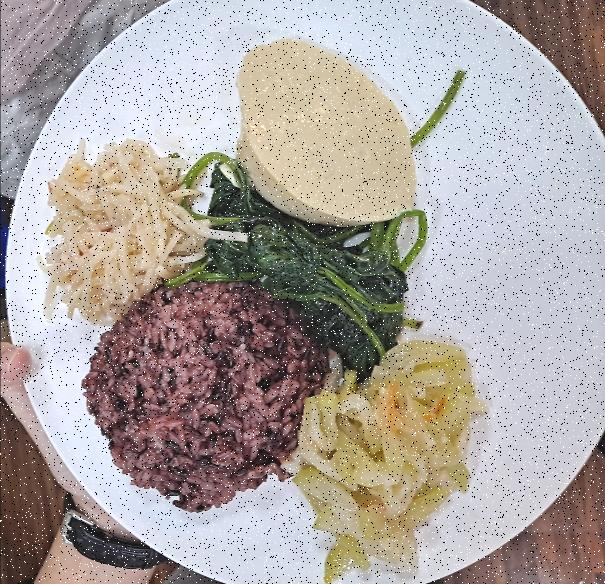plate: (0, 7, 605, 582)
purple rice: (80, 282, 323, 510)
side dish: (298, 326, 490, 584), (213, 28, 435, 235), (36, 135, 210, 319), (212, 197, 415, 344)
